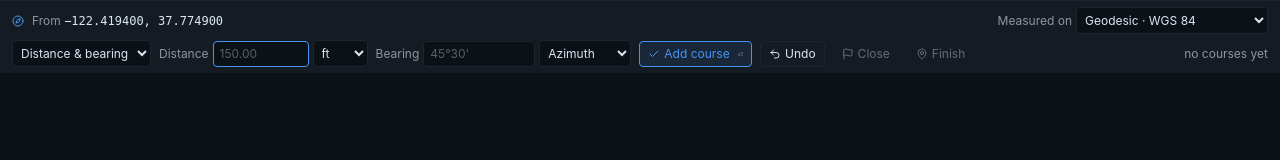
Test: TraverseBar › says why a tangent curve cannot start a figure
Select "Tangent curve" in the dropdown titled "What kind of course" at (82, 54), box [12,40,151,67]
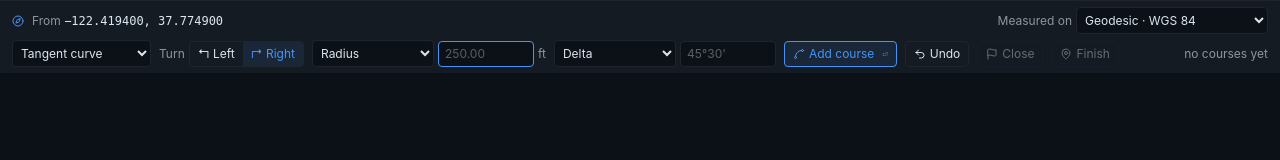
Type "250" into the field with test id "draw.traverse.curve.a" at (486, 54), box [438,40,534,66]
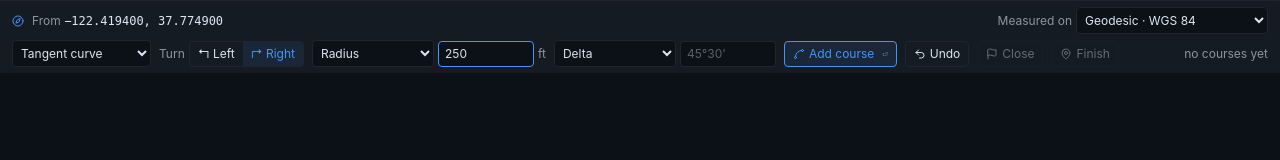
Type "45" into the field with test id "draw.traverse.curve.b" at (728, 54), box [680,40,776,66]
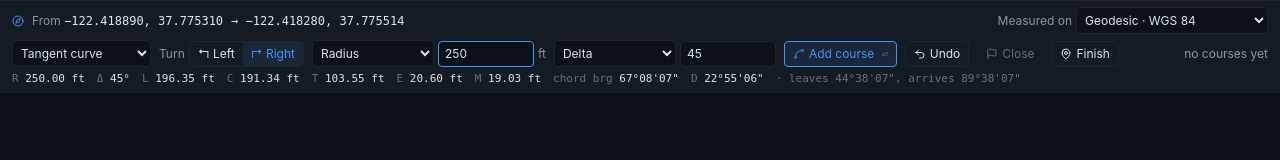
Now the text "continues the course before it" is shown, box [231,14,404,28]
